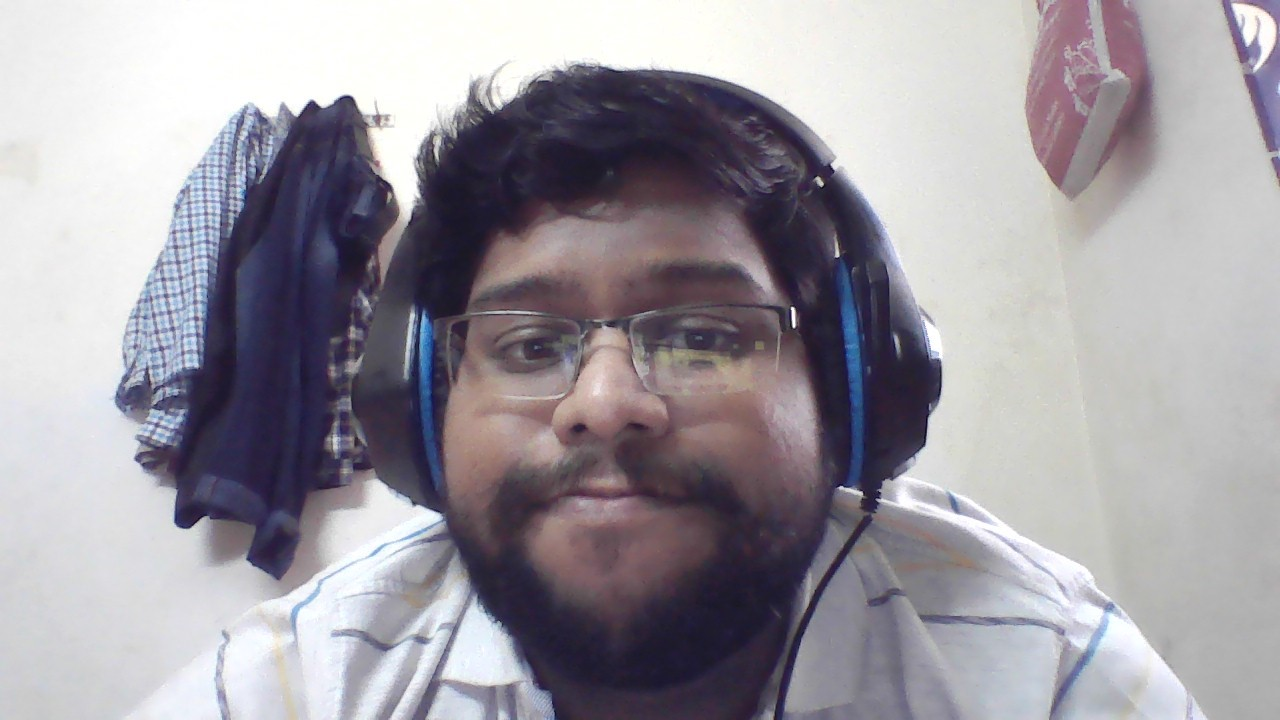NoMask: (452, 380, 823, 607)
